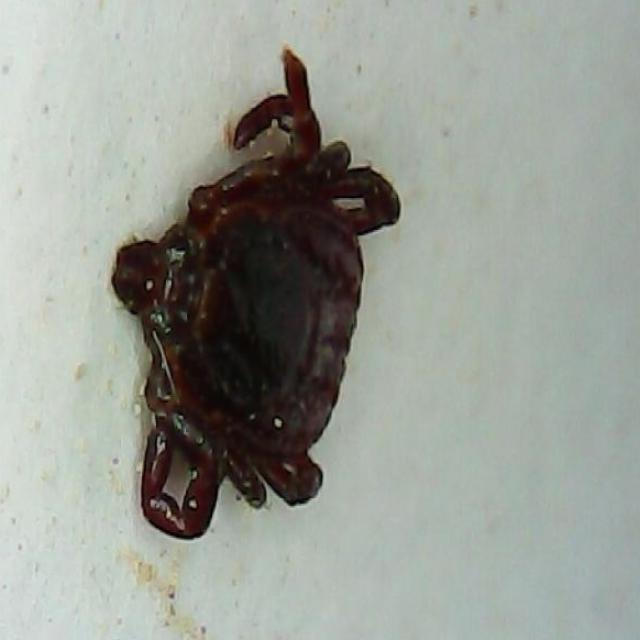Rhipicephalus Sanguineus-F: (110, 46, 402, 539)
